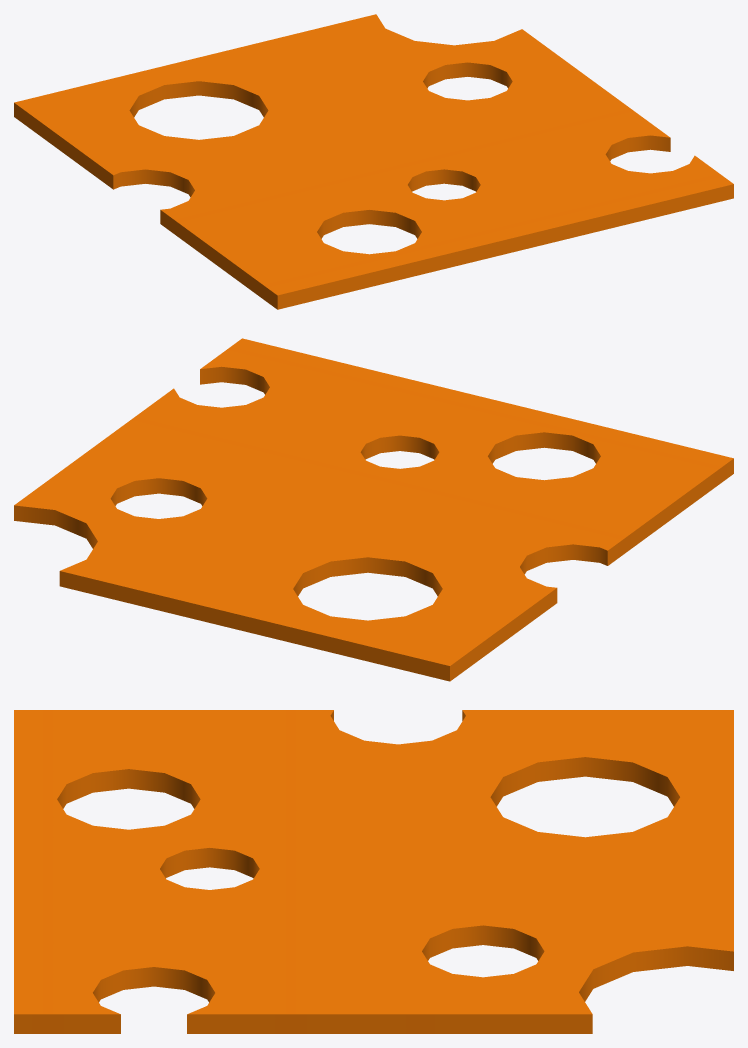
The model's file is Сheese.fbx.
The picture shows the model from 3 angles, top to bottom: view 1: azimuth 30°, elevation 25°; view 2: azimuth 150°, elevation 25°; view 3: azimuth 270°, elevation 25°; orthographic projection. The views are drawn at different scales.
Visible parts, largest first — view 1: Сheese; view 2: Сheese; view 3: Сheese.
Boxes of the visible parts, x1,y1,x2,y2 form: Сheese: [14, 14, 733, 309]; Сheese: [14, 338, 733, 681]; Сheese: [14, 710, 733, 1033].
Size of the model in its own units: 82.96 by 82.96 by 2.49.
